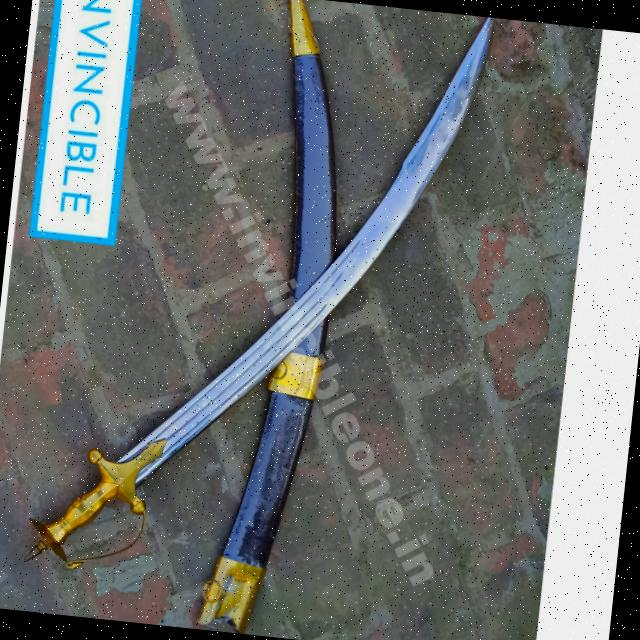knife: (42, 0, 501, 605), (218, 0, 363, 639)
